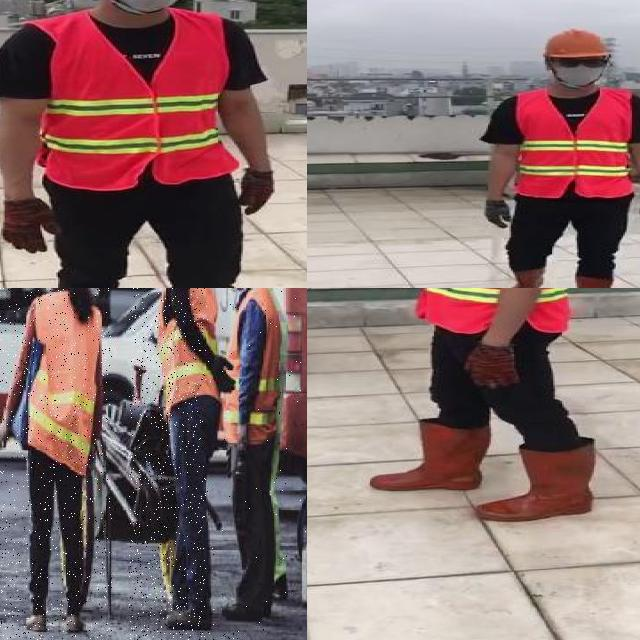boots: (475, 445, 599, 521), (372, 419, 489, 490), (165, 606, 213, 632), (496, 265, 550, 288), (222, 602, 269, 623), (569, 275, 630, 288), (24, 614, 48, 634), (64, 614, 86, 635)
face_mask: (552, 57, 609, 87), (102, 0, 193, 11)
glasses: (551, 52, 610, 72)
hand_glove: (0, 198, 59, 252), (464, 344, 521, 390), (239, 172, 275, 213), (481, 200, 515, 229)
head_helmet: (540, 26, 608, 58)
person: (0, 0, 291, 288), (362, 288, 613, 530), (472, 30, 640, 288), (129, 288, 246, 640), (0, 288, 112, 640), (206, 288, 307, 631)
vest: (24, 11, 230, 184), (26, 292, 103, 477), (511, 88, 634, 199), (222, 288, 291, 444), (158, 288, 221, 423), (421, 288, 570, 333)
